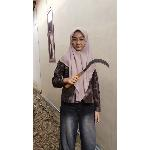Celurit: (62, 58, 114, 90)
